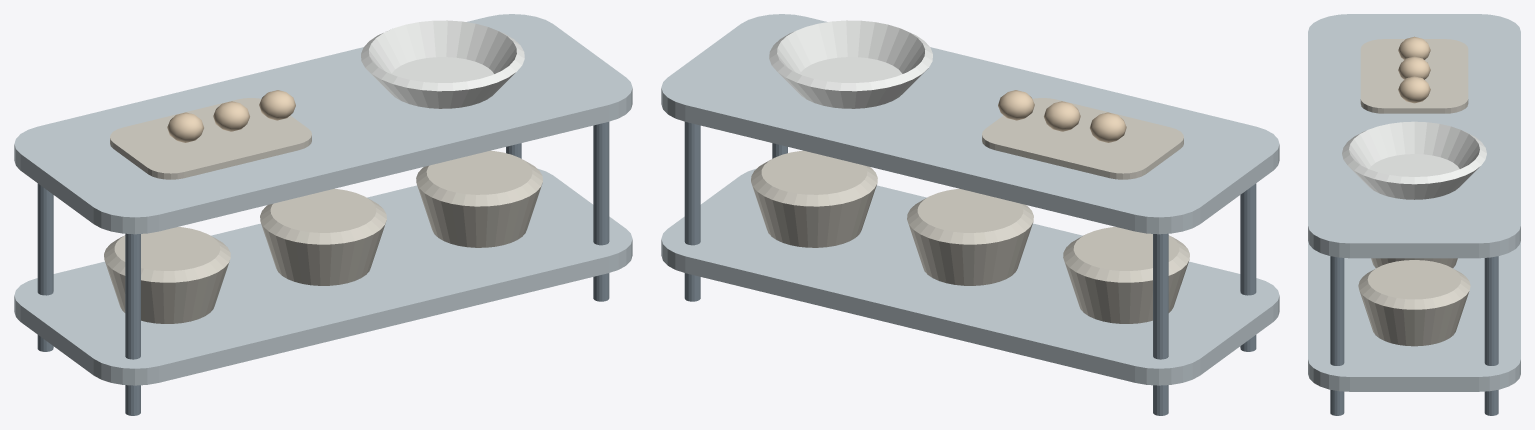
The model's file is restaurant_kitchen_island.glb.
3 views of the same model, side by side, from view 1: azimuth 30°, elevation 25°; view 2: azimuth 150°, elevation 25°; view 3: azimuth 270°, elevation 25° (orthographic). The views are drawn at different scales.
Parts seen in each view (by area): view 1: decor_9aadb8_metal, decor_aaa493_matte, decor_d8dcd8_matte, decor_455665_metal, decor_c6a176_matte; view 2: decor_9aadb8_metal, decor_aaa493_matte, decor_d8dcd8_matte, decor_455665_metal, decor_c6a176_matte; view 3: decor_9aadb8_metal, decor_aaa493_matte, decor_d8dcd8_matte, decor_455665_metal, decor_c6a176_matte.
Part boxes in pixels (x1=…): decor_9aadb8_metal: x1=14, y1=14, x2=632, y2=385; decor_aaa493_matte: x1=104, y1=98, x2=542, y2=323; decor_d8dcd8_matte: x1=361, y1=20, x2=524, y2=108; decor_455665_metal: x1=37, y1=122, x2=609, y2=415; decor_c6a176_matte: x1=167, y1=90, x2=295, y2=142; decor_9aadb8_metal: x1=661, y1=14, x2=1279, y2=385; decor_aaa493_matte: x1=751, y1=98, x2=1189, y2=323; decor_d8dcd8_matte: x1=769, y1=20, x2=932, y2=108; decor_455665_metal: x1=684, y1=122, x2=1256, y2=415; decor_c6a176_matte: x1=998, y1=90, x2=1126, y2=142; decor_9aadb8_metal: x1=1308, y1=14, x2=1520, y2=391; decor_aaa493_matte: x1=1358, y1=39, x2=1470, y2=346; decor_d8dcd8_matte: x1=1342, y1=121, x2=1486, y2=199; decor_455665_metal: x1=1330, y1=256, x2=1498, y2=415; decor_c6a176_matte: x1=1398, y1=36, x2=1430, y2=103.
Size of the model in its own units: 2.32 by 1.01 by 0.91.
